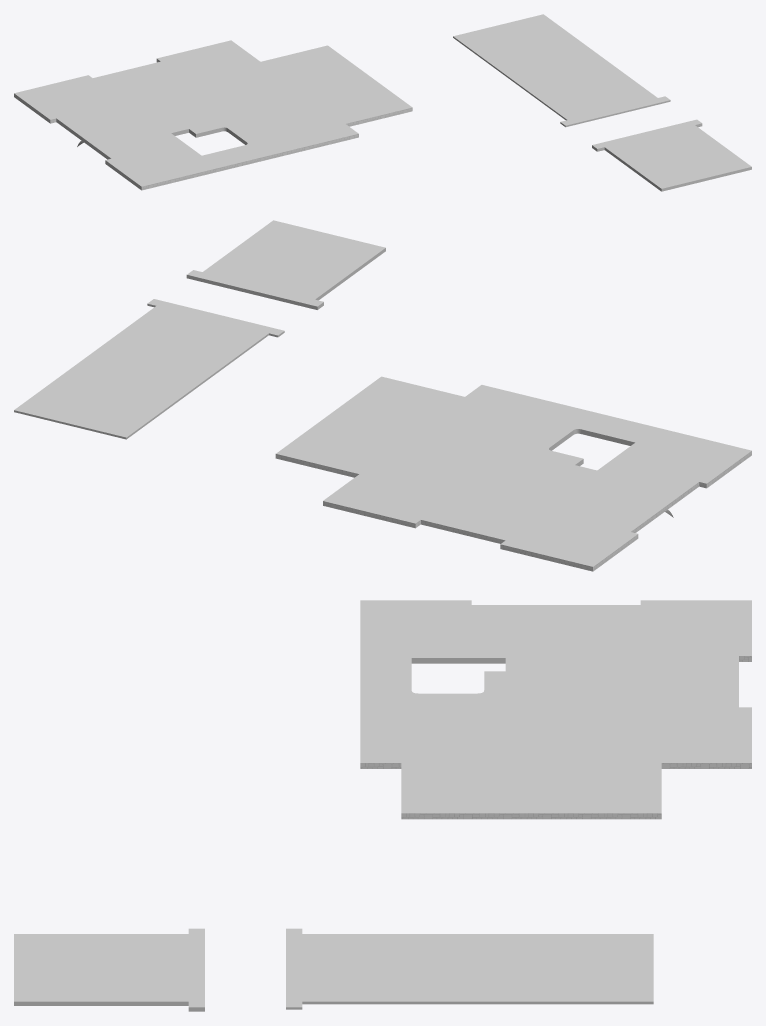
The model's file is RB05__Storey__FirstFloor__ProposedFloors__MeshModel__.glb.
3 views of the same model, one above another, from view 1: azimuth 30°, elevation 25°; view 2: azimuth 150°, elevation 25°; view 3: azimuth 270°, elevation 25° (orthographic). The views are drawn at different scales.
Visible parts, largest first — view 1: 22__ProposedBuilding__Floors::Default, 22__ProposedBuilding__Floors::MAT000E__Masonry__StoneworkPat; view 2: 22__ProposedBuilding__Floors::Default, 22__ProposedBuilding__Floors::MAT000E__Masonry__StoneworkPat; view 3: 22__ProposedBuilding__Floors::Default, 22__ProposedBuilding__Floors::MAT000E__Masonry__StoneworkPat.
Boxes of the visible parts, x1,y1,x2,y2 form: 22__ProposedBuilding__Floors::Default: [14, 14, 751, 191]; 22__ProposedBuilding__Floors::MAT000E__Masonry__StoneworkPat: [14, 59, 412, 190]; 22__ProposedBuilding__Floors::Default: [14, 220, 751, 566]; 22__ProposedBuilding__Floors::MAT000E__Masonry__StoneworkPat: [275, 451, 751, 571]; 22__ProposedBuilding__Floors::Default: [14, 600, 751, 1011]; 22__ProposedBuilding__Floors::MAT000E__Masonry__StoneworkPat: [360, 656, 751, 819].
Size of the model in its own units: 41.32 by 1.7 by 34.1.
Materials: 2 (1 with a texture image).
